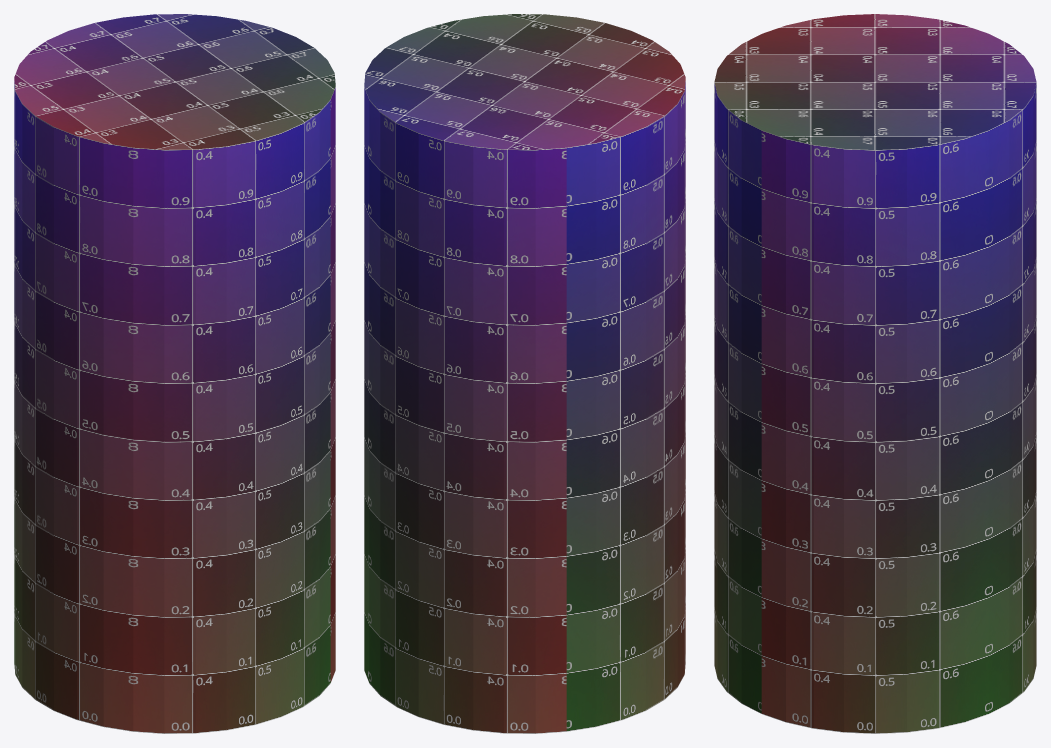
The model's file is player_ref.glb.
The picture shows the model from 3 angles, left to right: view 1: azimuth 30°, elevation 25°; view 2: azimuth 150°, elevation 25°; view 3: azimuth 270°, elevation 25°; orthographic projection.
Visible parts, largest first — view 1: Cylinder; view 2: Cylinder; view 3: Cylinder.
Part boxes in pixels (x1,y1,x2,y2): Cylinder: (14,14,335,733); Cylinder: (364,14,685,733); Cylinder: (714,14,1036,733).
Size of the model in its own units: 2 by 4 by 2.
Materials: 1 (1 with a texture image).
